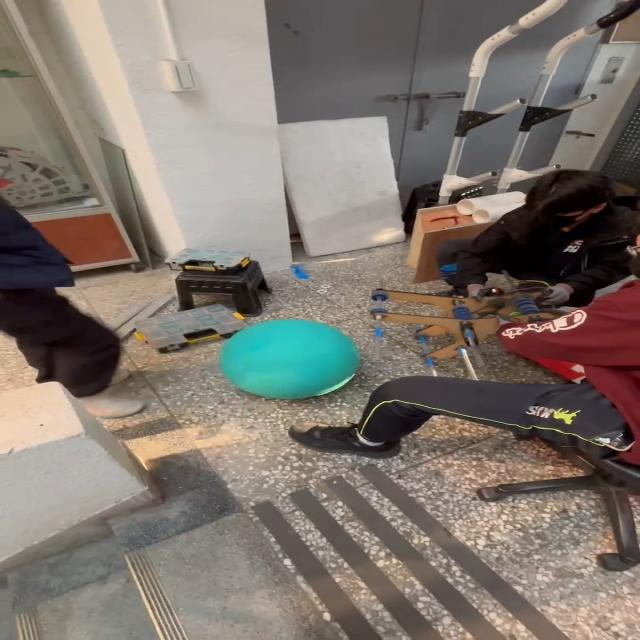ALGAE: (216, 318, 362, 400)
